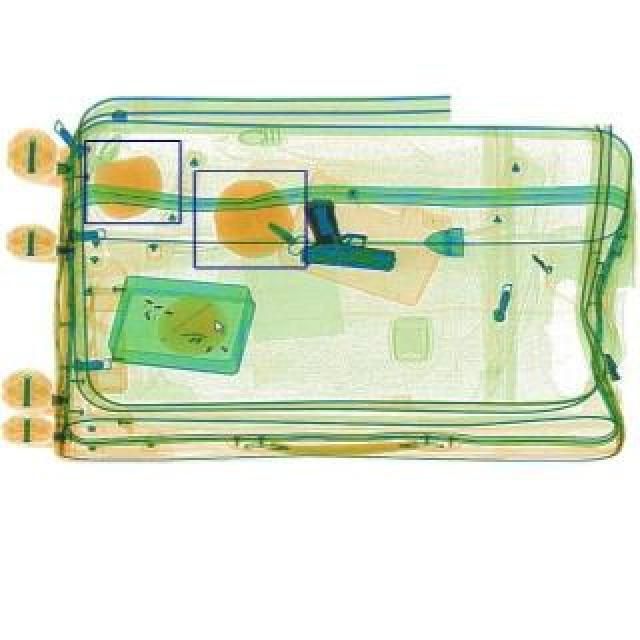gun: (296, 196, 400, 272)
